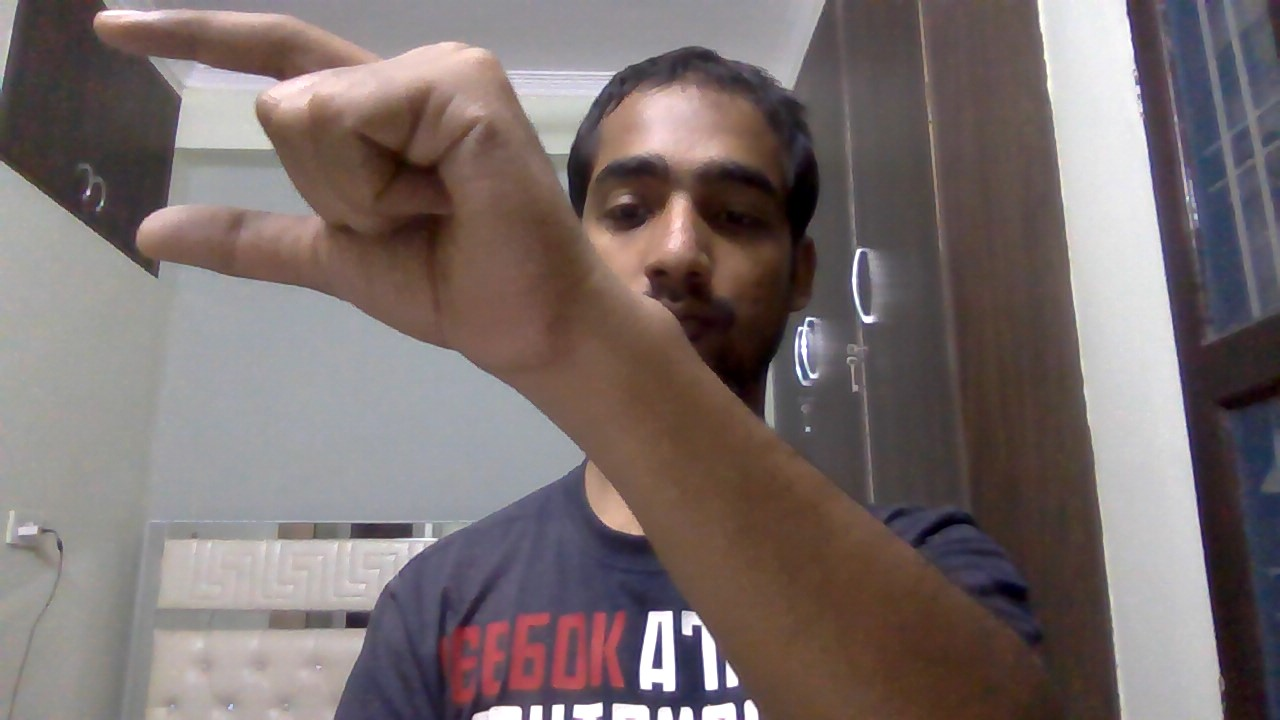Paste: (85, 8, 608, 395)
